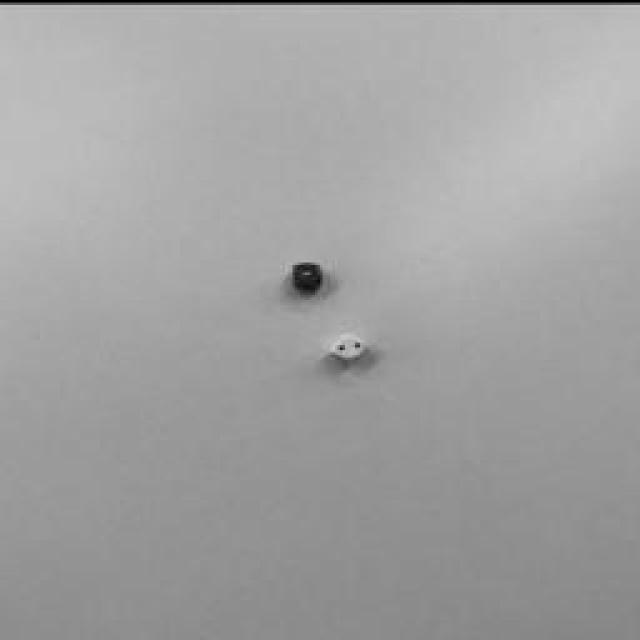dice_1: (294, 260, 321, 280)
dice_2: (335, 333, 365, 355)
